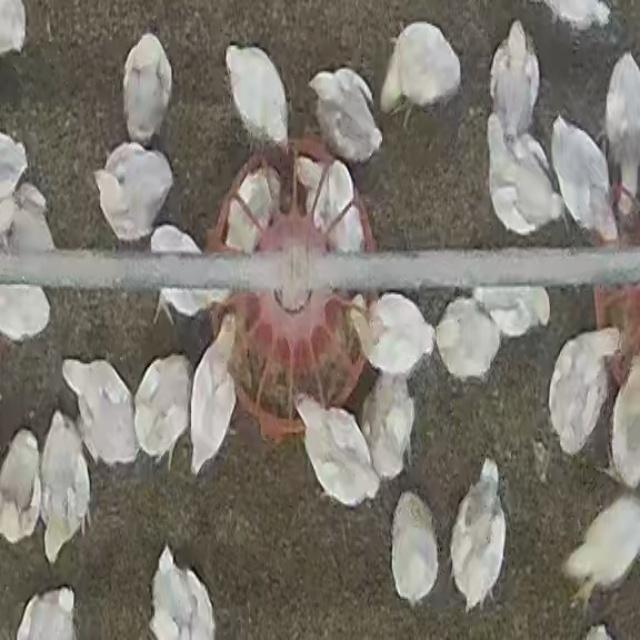chicken: (545, 326, 622, 460), (288, 394, 380, 505), (448, 455, 505, 610), (486, 116, 558, 235), (62, 356, 139, 467), (550, 121, 618, 245), (189, 315, 240, 474), (565, 495, 640, 601), (383, 23, 461, 120), (96, 144, 174, 240), (41, 412, 89, 564), (292, 152, 363, 254), (310, 68, 385, 163), (225, 44, 290, 153), (350, 294, 434, 376), (153, 230, 228, 316), (360, 373, 415, 481), (137, 353, 189, 467), (490, 21, 541, 137), (604, 53, 640, 216), (152, 549, 214, 640), (391, 489, 439, 601), (0, 425, 43, 548), (435, 297, 498, 380), (123, 35, 168, 143), (221, 167, 280, 249), (607, 357, 640, 489), (475, 284, 551, 336), (13, 583, 77, 640), (10, 183, 55, 251), (0, 285, 53, 342), (544, 2, 612, 31)
